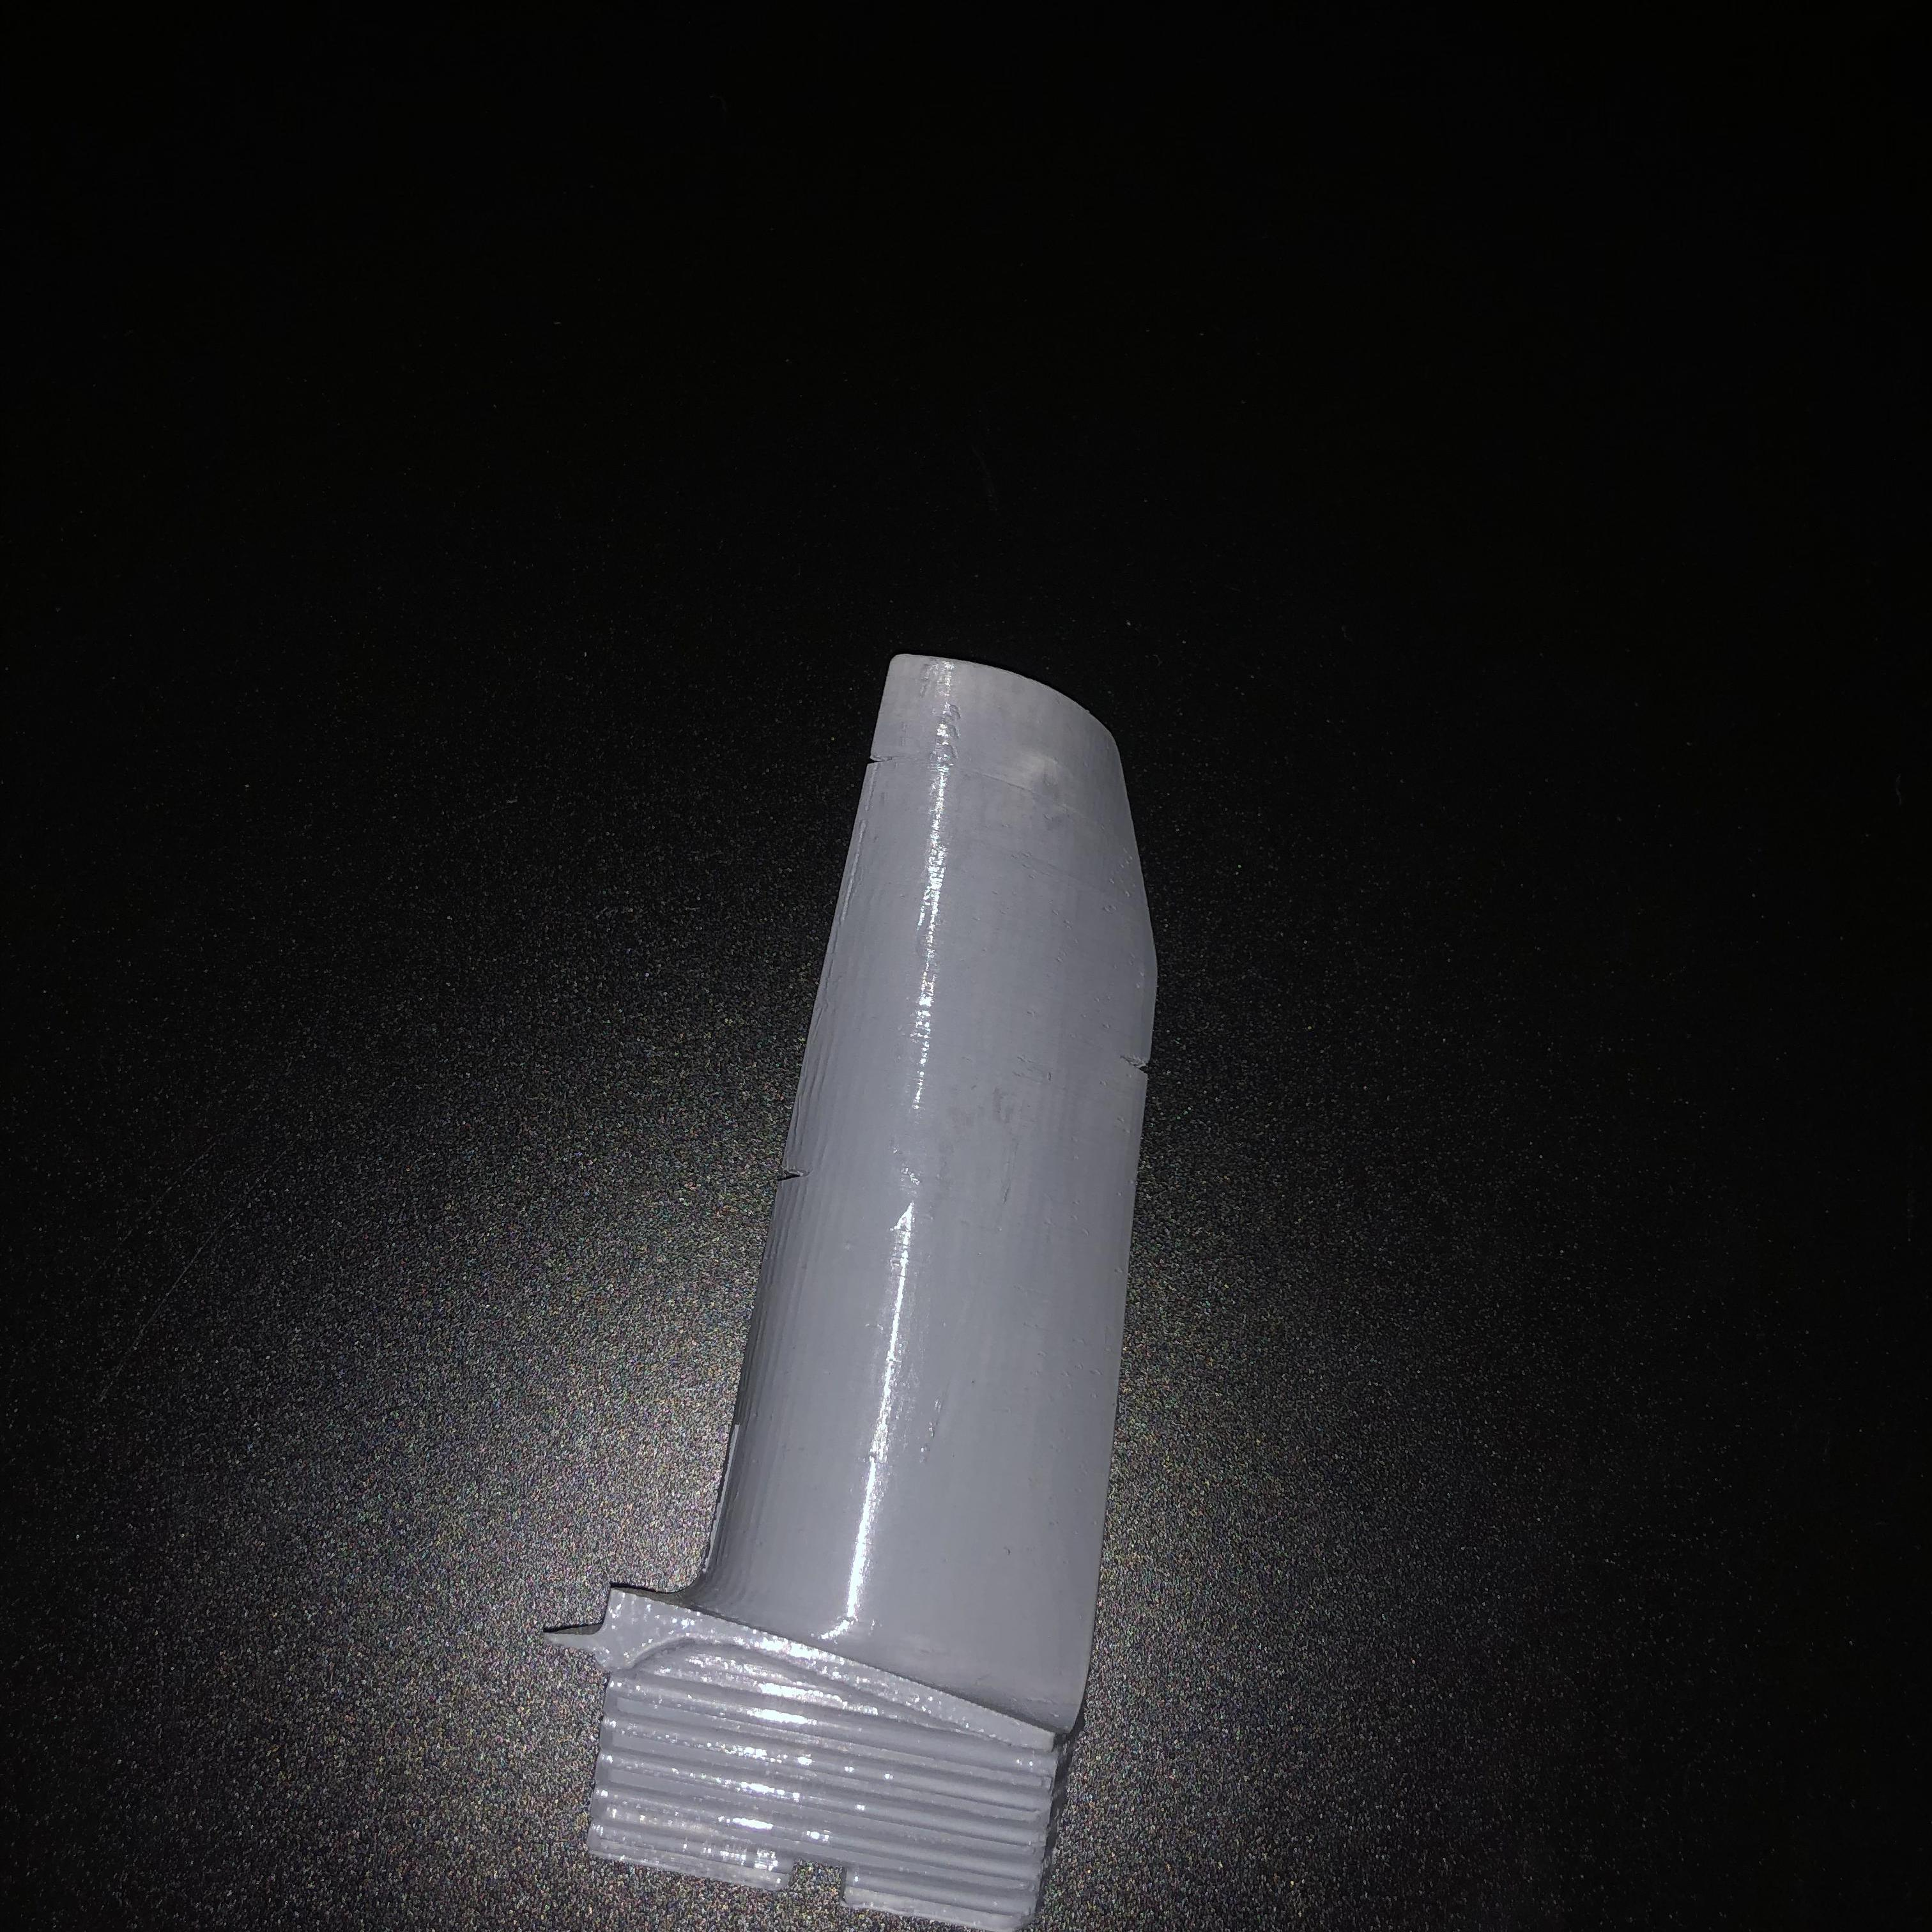groove: (1122, 1051, 1162, 1079), (860, 745, 899, 771), (778, 1161, 814, 1189)
